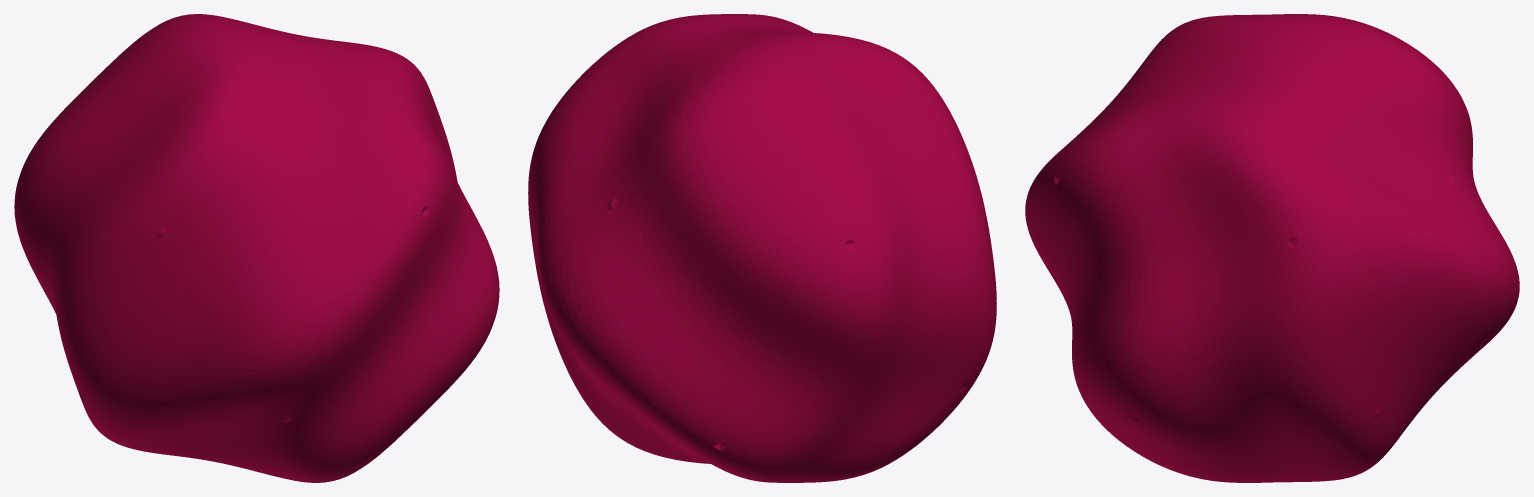
Rendered from Blobbie-01.dae.
3 views of the same model, side by side, from view 1: azimuth 30°, elevation 25°; view 2: azimuth 150°, elevation 25°; view 3: azimuth 270°, elevation 25° (orthographic). The views are drawn at different scales.
Visible parts, largest first — view 1: Blobbie; view 2: Blobbie; view 3: Blobbie.
Part boxes in pixels (x1,y1,x2,y2): Blobbie: [14, 14, 499, 482]; Blobbie: [528, 14, 996, 482]; Blobbie: [1025, 14, 1519, 482].
Size of the model in its own units: 2.07 by 2.13 by 2.05.
